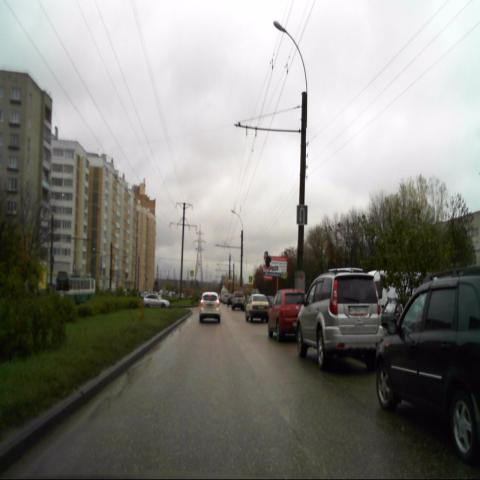6_3_1: (296, 203, 308, 226)
